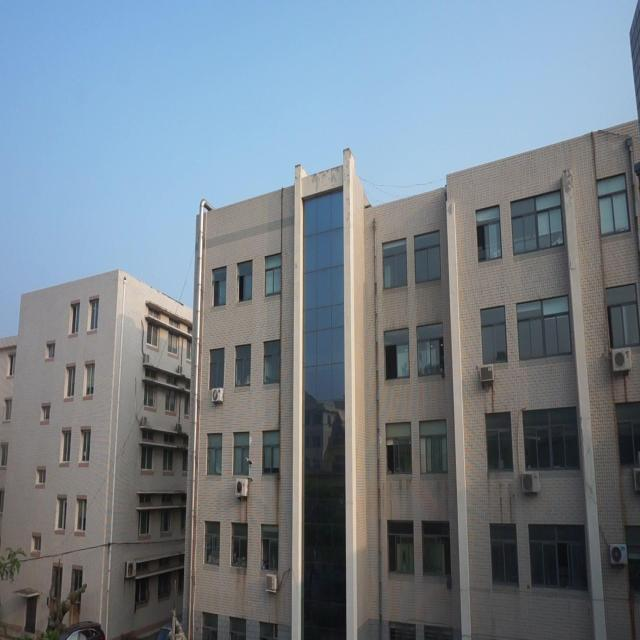drone: (243, 452, 256, 471)
